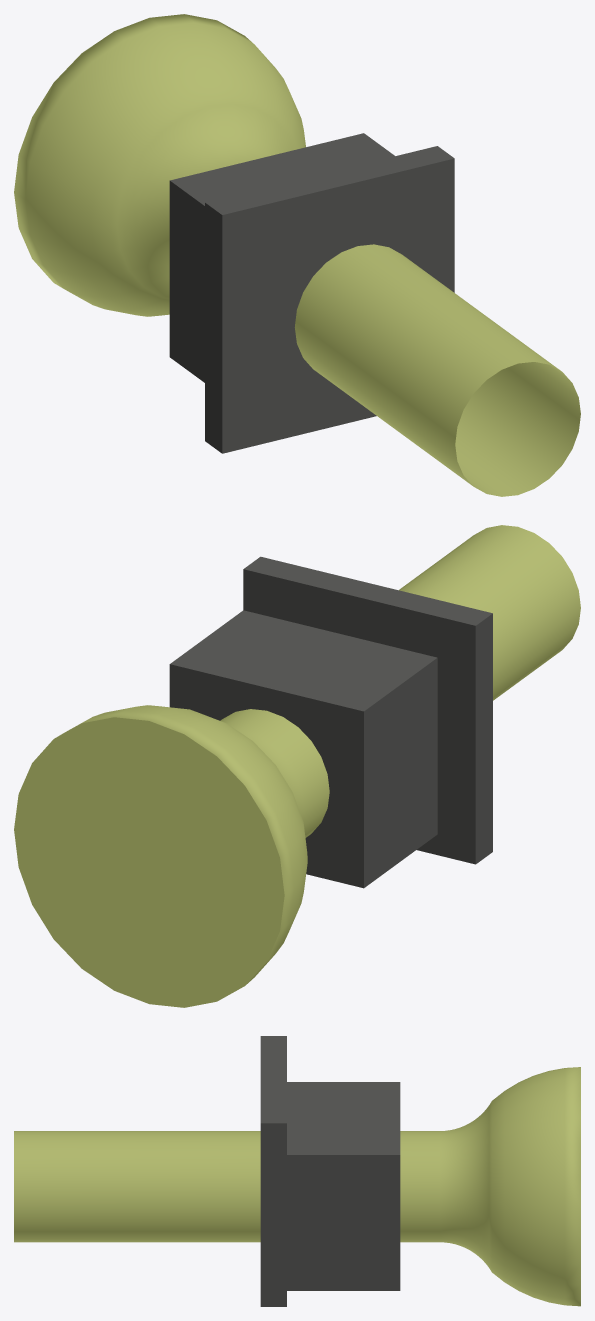
File: Suspension.dae
3 views of the same model, one above another, from view 1: azimuth 30°, elevation 25°; view 2: azimuth 150°, elevation 25°; view 3: azimuth 270°, elevation 25° (orthographic). The views are drawn at different scales.
Visible parts, largest first — view 1: SketchUp_033_002; view 2: SketchUp_033_002; view 3: SketchUp_033_002.
Boxes of the visible parts, x1,y1,x2,y2 form: SketchUp_033_002: (14, 14, 580, 496); SketchUp_033_002: (14, 525, 580, 1007); SketchUp_033_002: (14, 1036, 580, 1306).
Size of the model in its own units: 0.365 by 0.8614 by 0.365.
